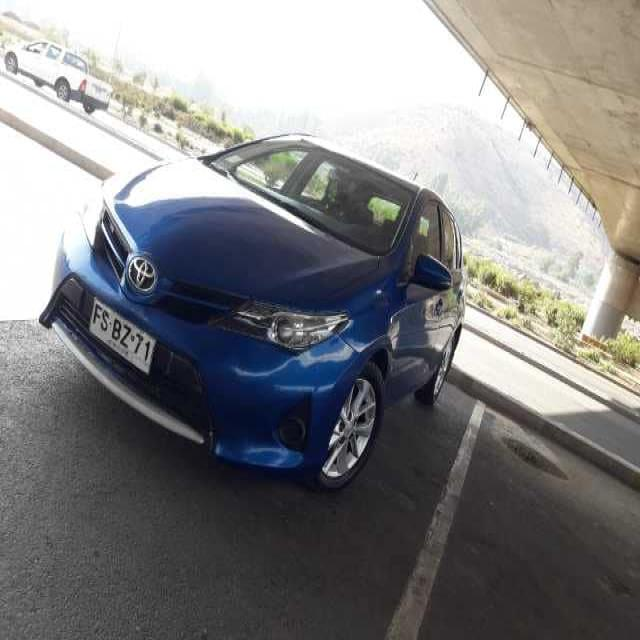patente: (87, 296, 156, 376)
